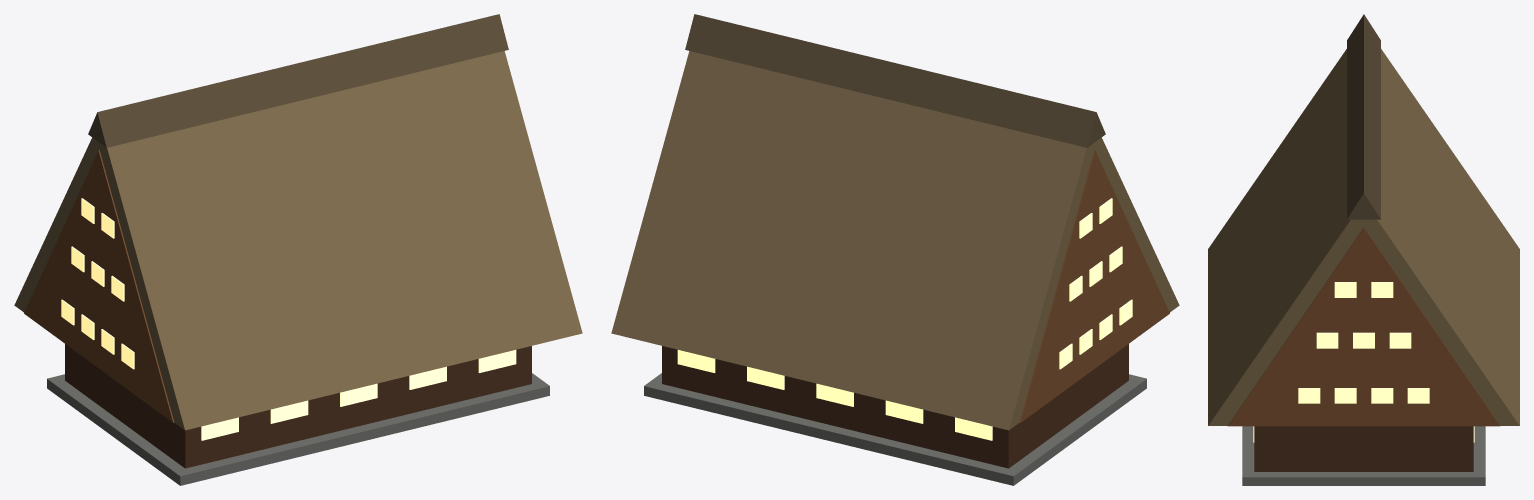
Rendered from gassho.glb.
The picture shows the model from 3 angles, left to right: view 1: azimuth 30°, elevation 25°; view 2: azimuth 150°, elevation 25°; view 3: azimuth 270°, elevation 25°; orthographic projection. The views are drawn at different scales.
Parts seen in each view (by area): view 1: gassho; view 2: gassho; view 3: gassho.
Part boxes in pixels (box(x1,y1,x2,y2)): gassho: box(14, 14, 582, 485); gassho: box(611, 14, 1179, 485); gassho: box(1208, 14, 1519, 485).
Bounding box in the file's own units: 17.4 × 13.6 × 12.8.
